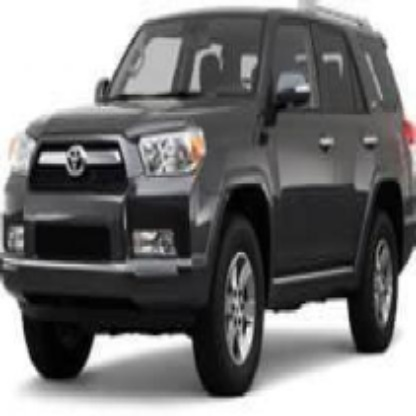Vehicle: (1, 3, 414, 407)
